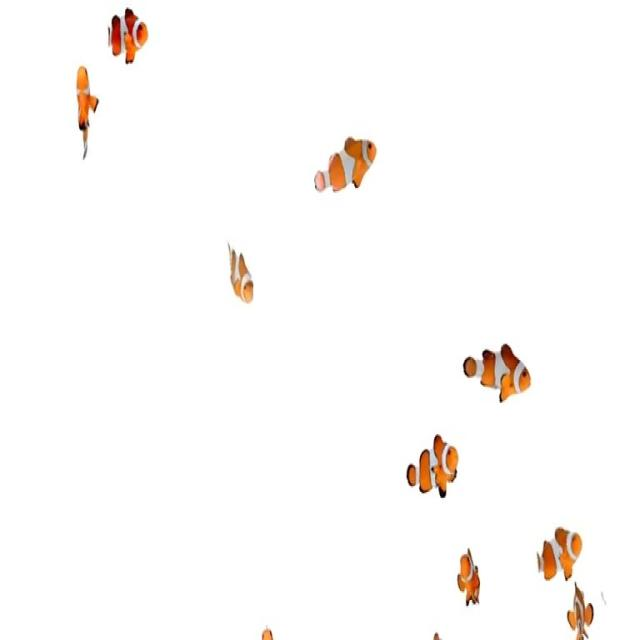fish: (313, 128, 379, 195), (463, 342, 533, 405), (402, 436, 462, 502), (535, 521, 584, 585), (105, 4, 152, 65), (74, 64, 101, 158), (454, 546, 482, 612), (226, 244, 257, 303), (569, 580, 595, 640)
